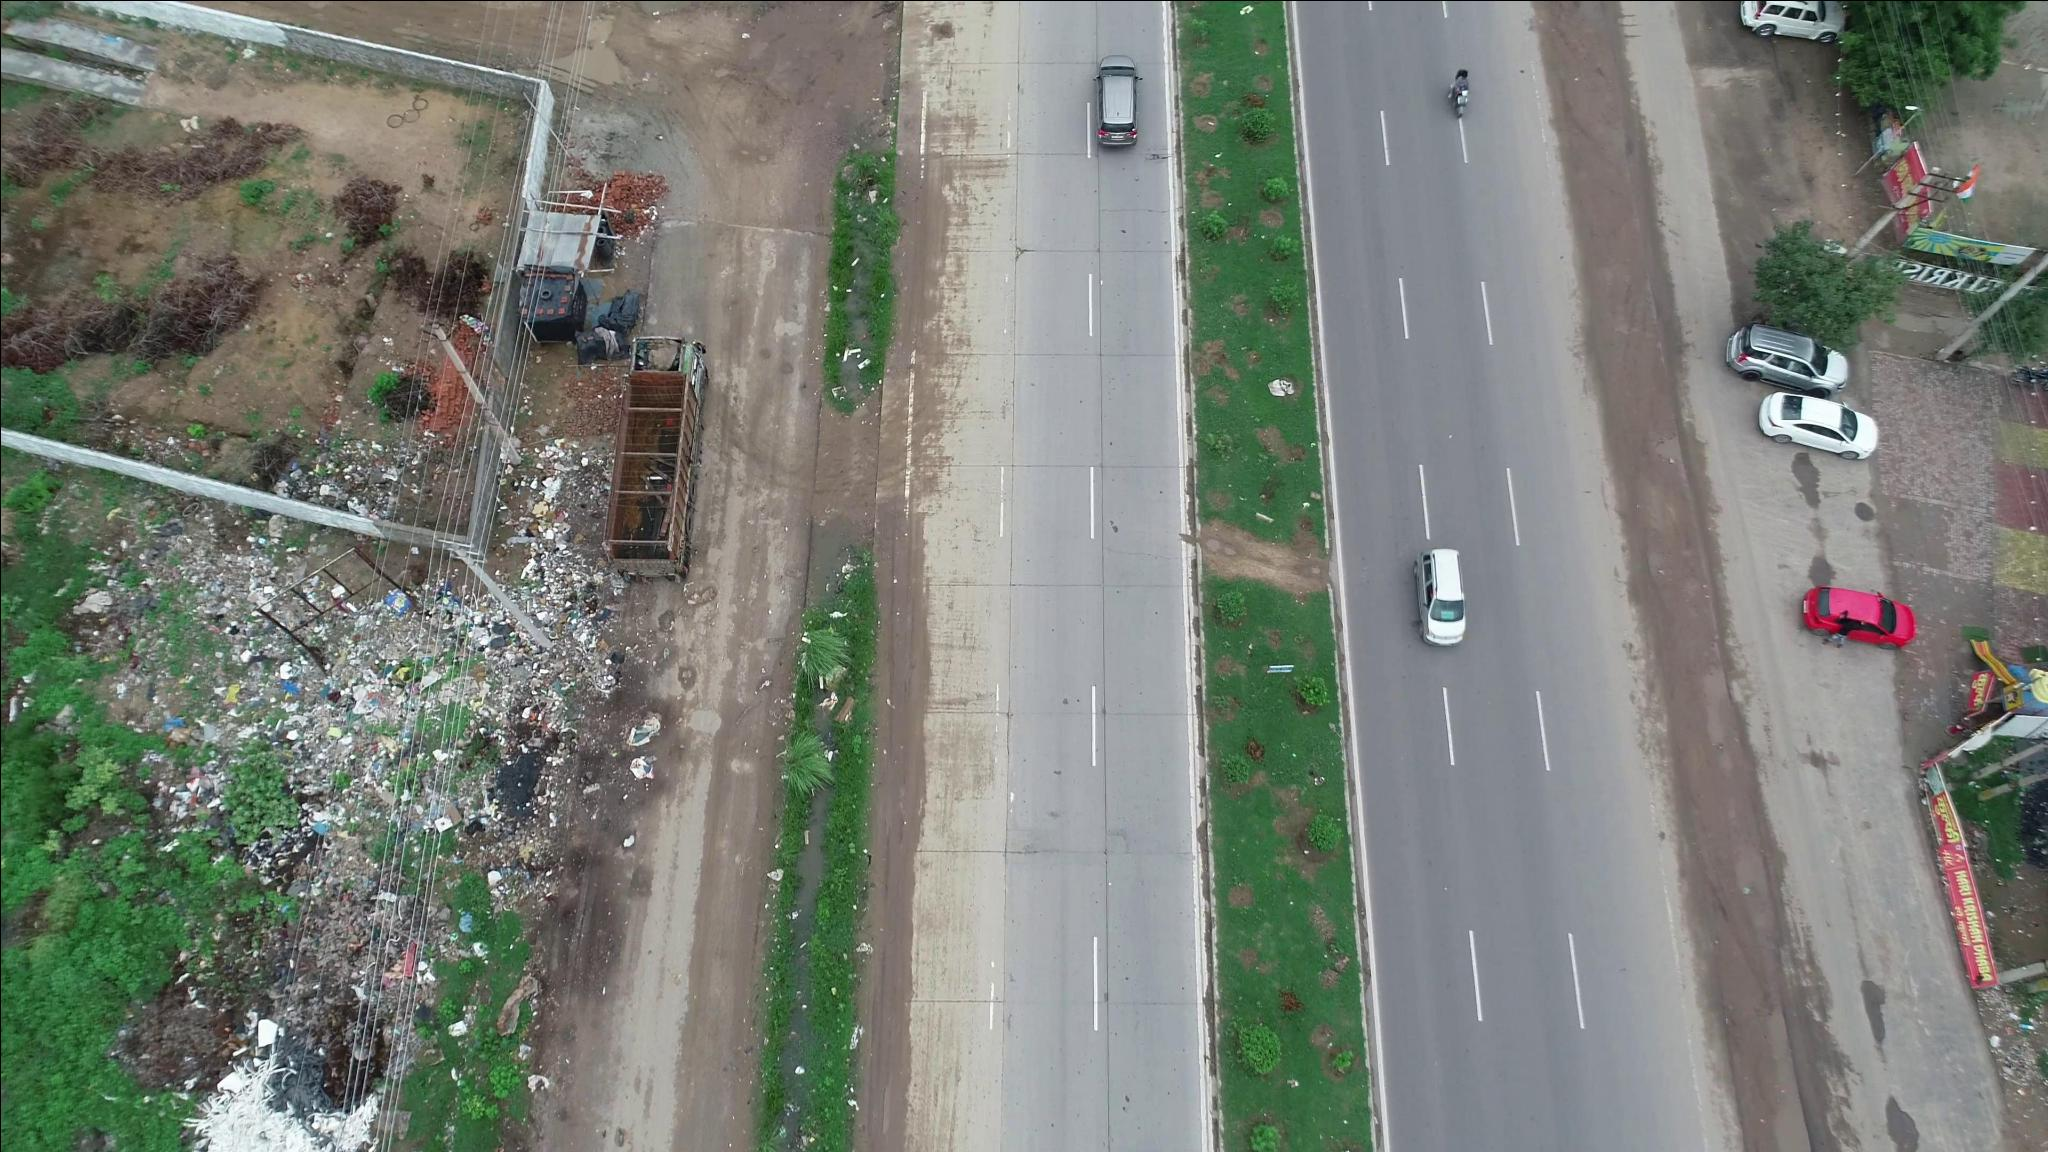Muddy_road: (858, 544, 940, 895), (857, 899, 934, 1139)
Road_side_garbage: (210, 634, 550, 857)
